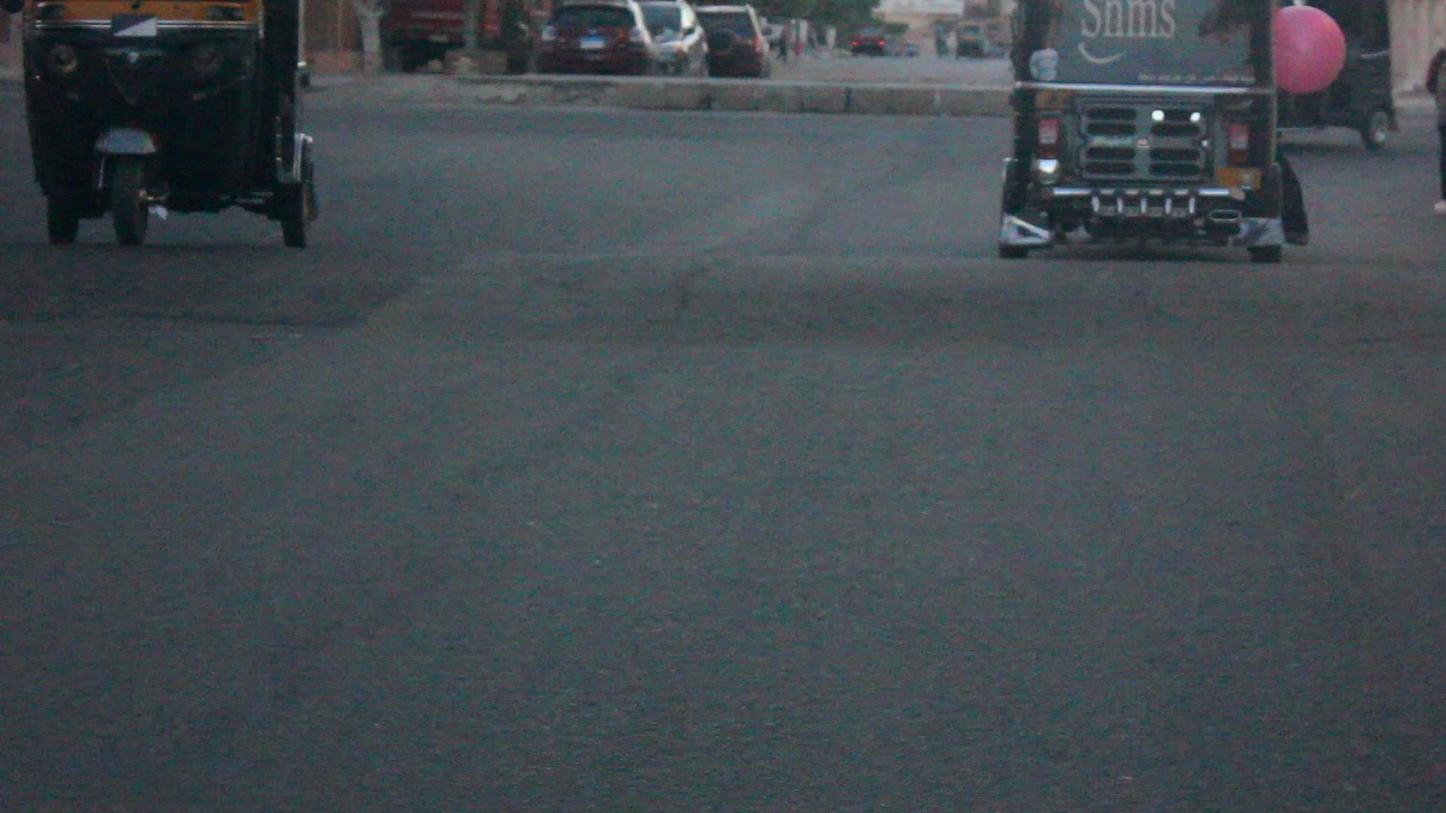Bump: (0, 228, 1446, 380)
